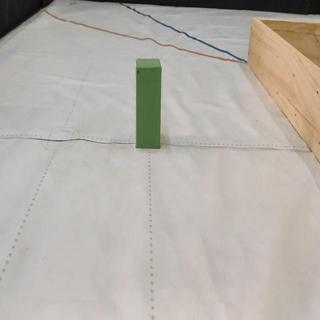greenbox: (134, 57, 164, 150)
